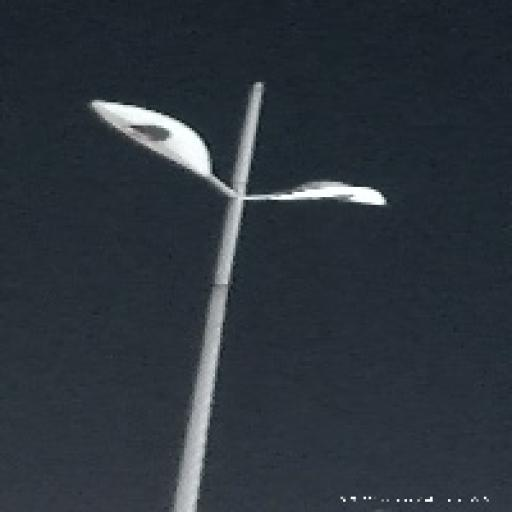Not Working: (82, 84, 228, 200), (264, 156, 394, 236)
